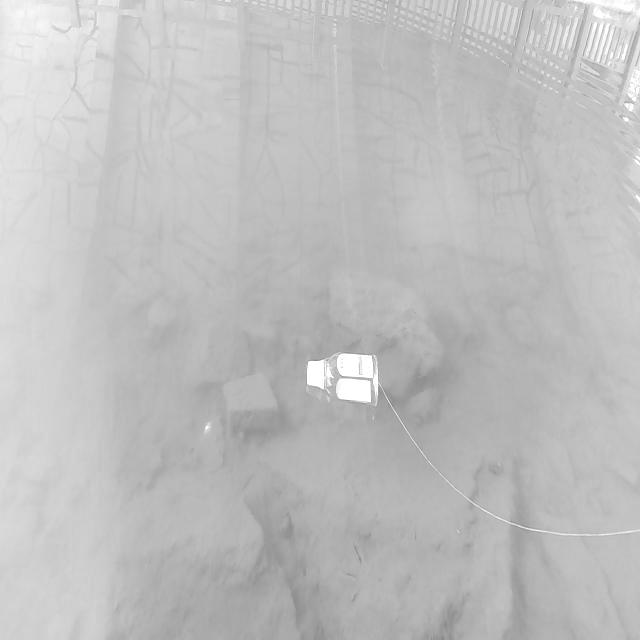bottle: (297, 346, 385, 408)
